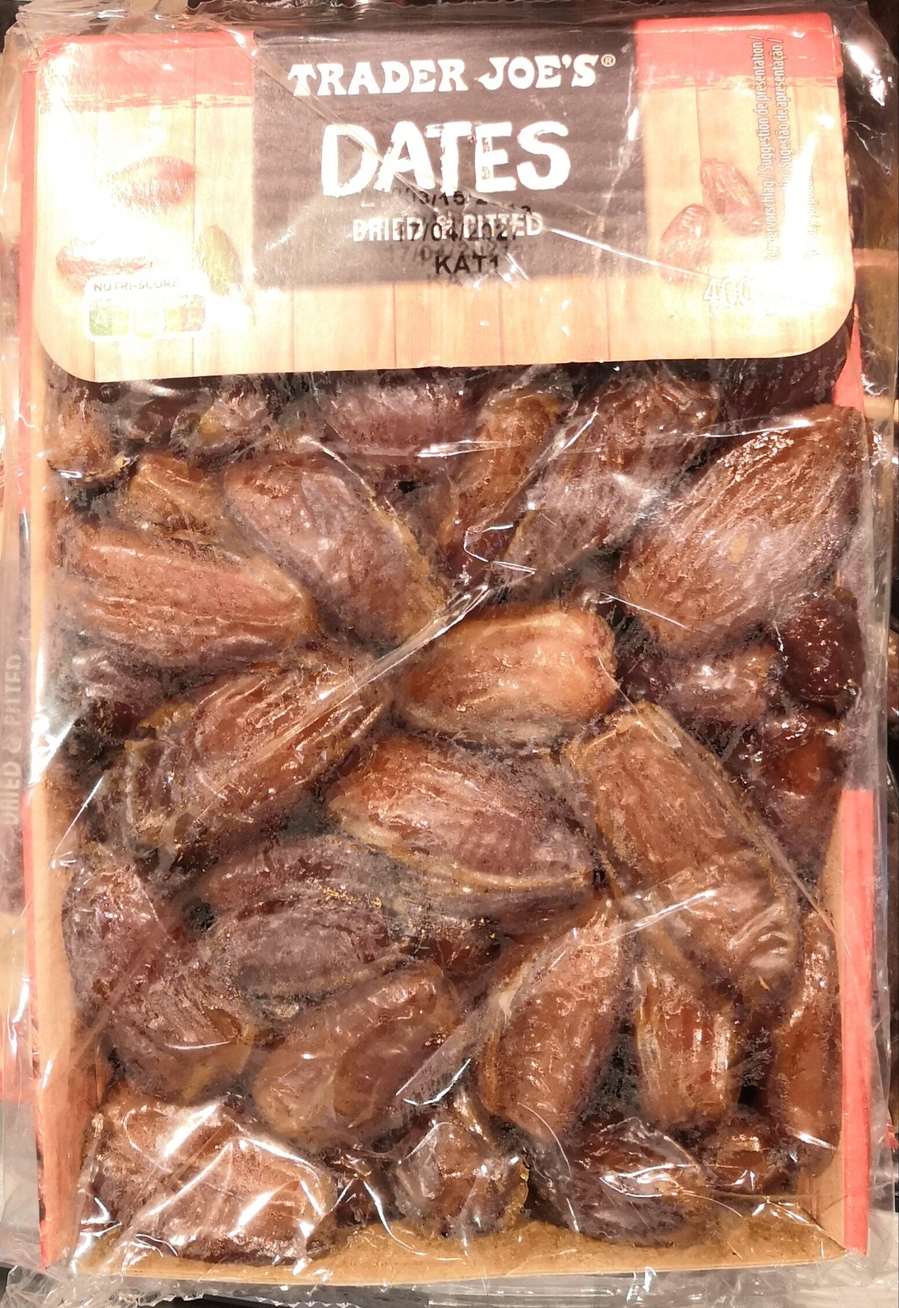Datteln, getrocknet, entsteint: (45, 65, 854, 1243)
